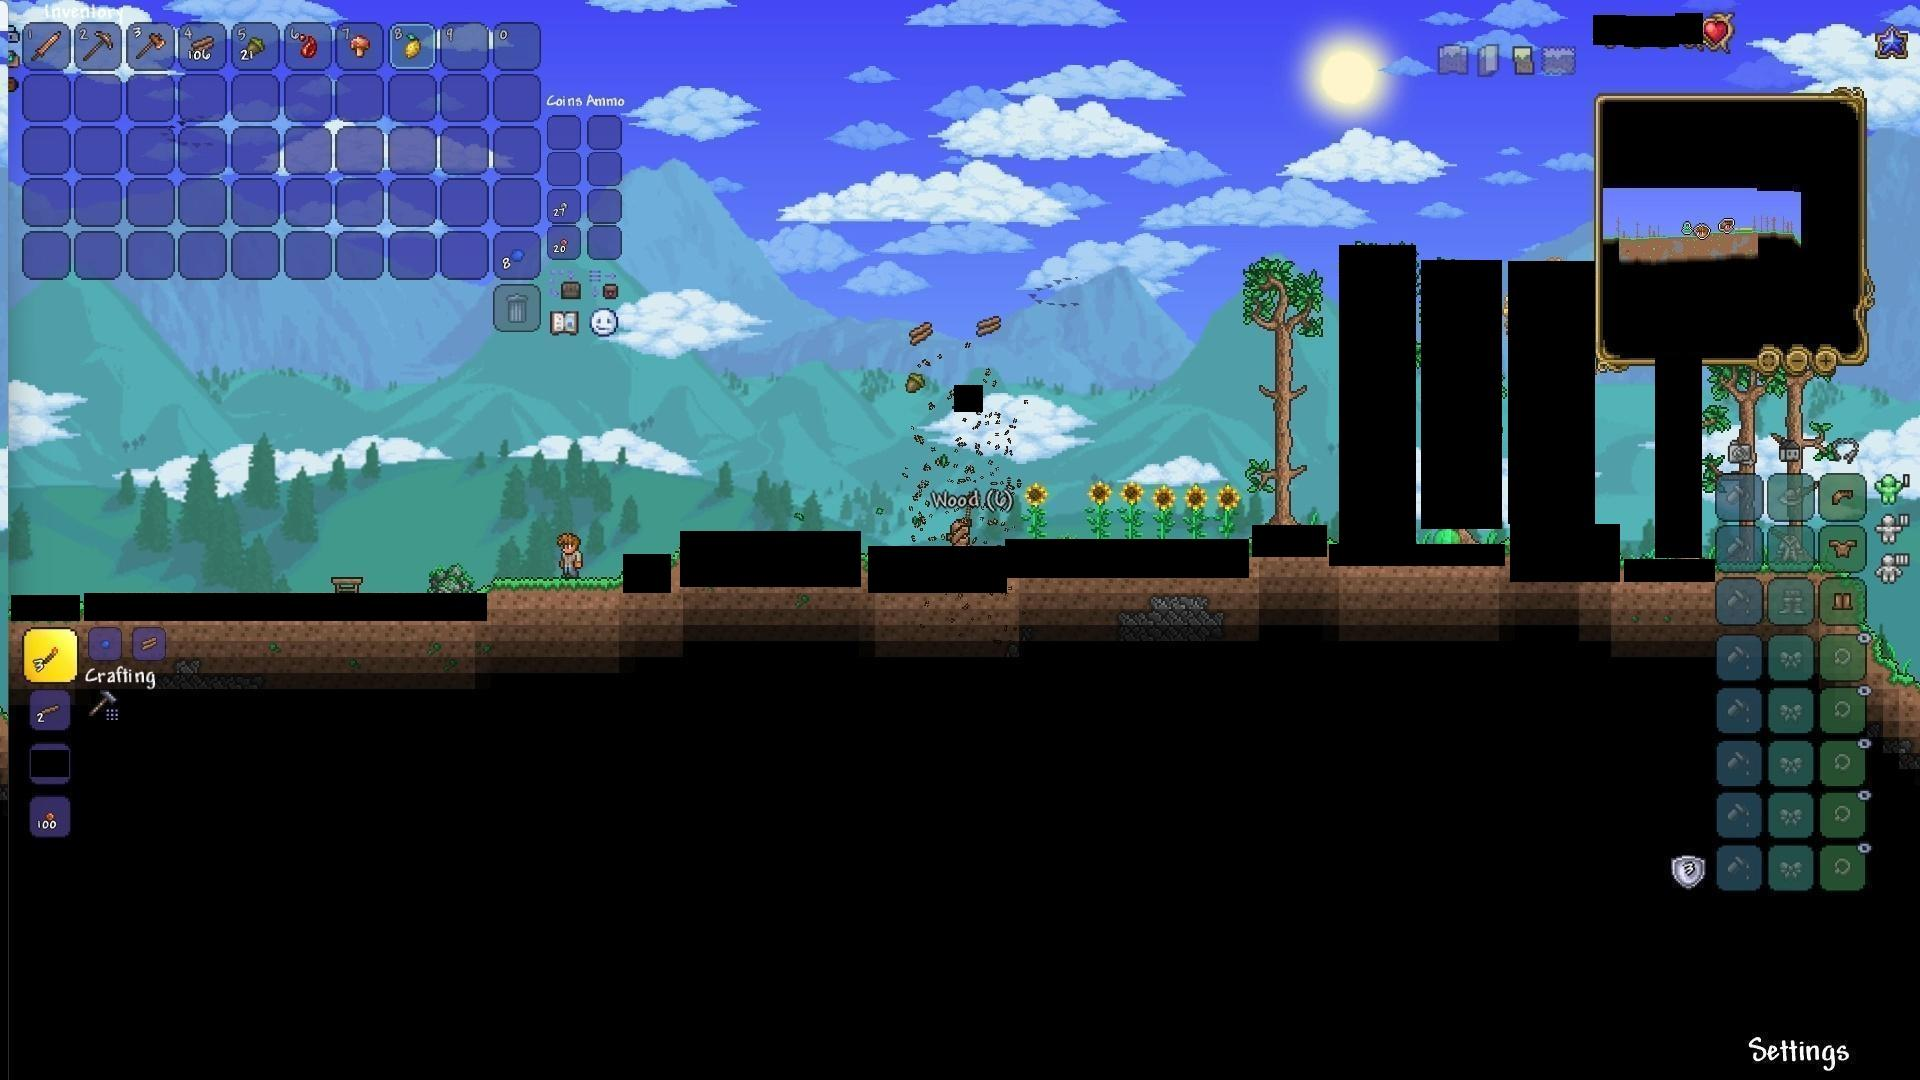breastplate: (1830, 538, 1859, 558)
dirt: (487, 567, 622, 645), (1873, 628, 1913, 698)
heart: (1702, 16, 1735, 46)
helmet: (1829, 484, 1858, 509)
legs: (1832, 588, 1855, 615)
slime: (1431, 527, 1466, 553)
tree: (1245, 255, 1313, 524)
wood: (972, 310, 1004, 338), (906, 319, 938, 343), (189, 34, 216, 61), (137, 629, 165, 655)
workbench: (326, 572, 363, 597)
